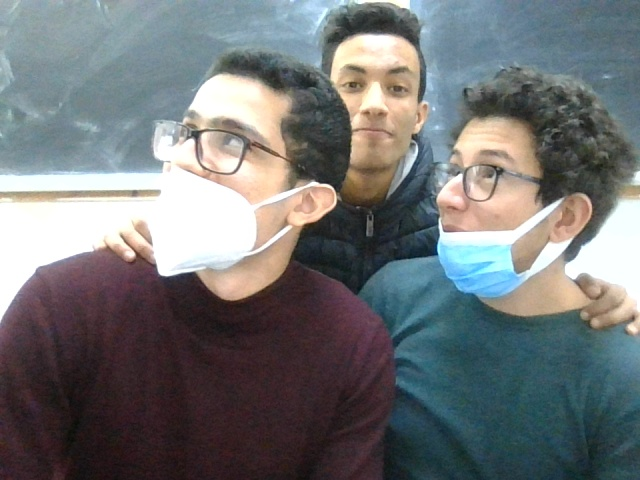mask_weared_incorrect: (432, 58, 611, 309), (129, 44, 306, 284)
without_mask: (314, 5, 426, 178)
